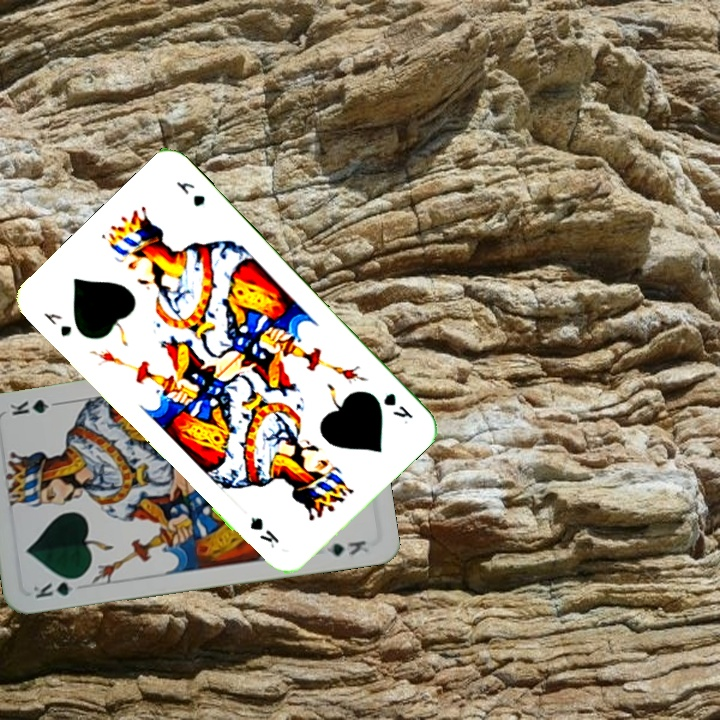GK: (29, 573, 85, 601), (379, 388, 415, 422), (39, 308, 75, 339)
